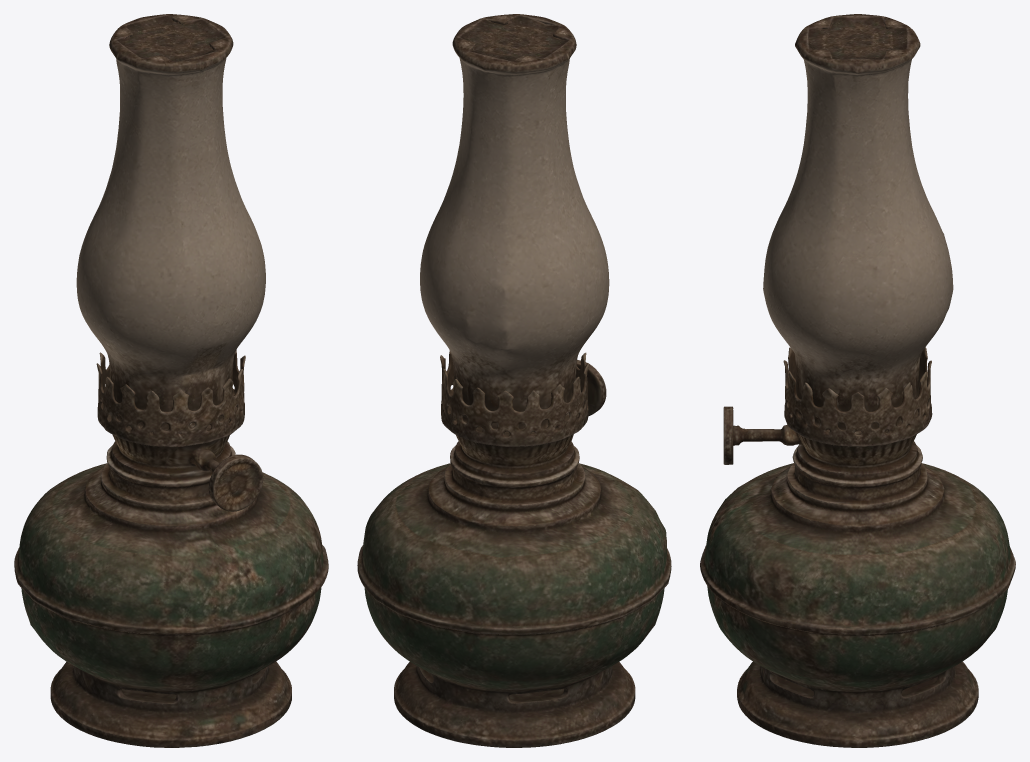
Rendered from Meshy_AI_Antique_Oil_Lamp_1009083738_texture.fbx.
The picture shows the model from 3 angles, left to right: view 1: azimuth 30°, elevation 25°; view 2: azimuth 150°, elevation 25°; view 3: azimuth 270°, elevation 25°; orthographic projection.
Visible parts, largest first — view 1: Mesh_0; view 2: Mesh_0; view 3: Mesh_0.
Part boxes in pixels (left/top/right/bottom): Mesh_0: left=14, top=14, right=328, bottom=747; Mesh_0: left=357, top=14, right=671, bottom=747; Mesh_0: left=700, top=14, right=1015, bottom=747.
Bounding box in the file's own units: 82.62 × 190 × 82.5.
1 material, 1 textured.
